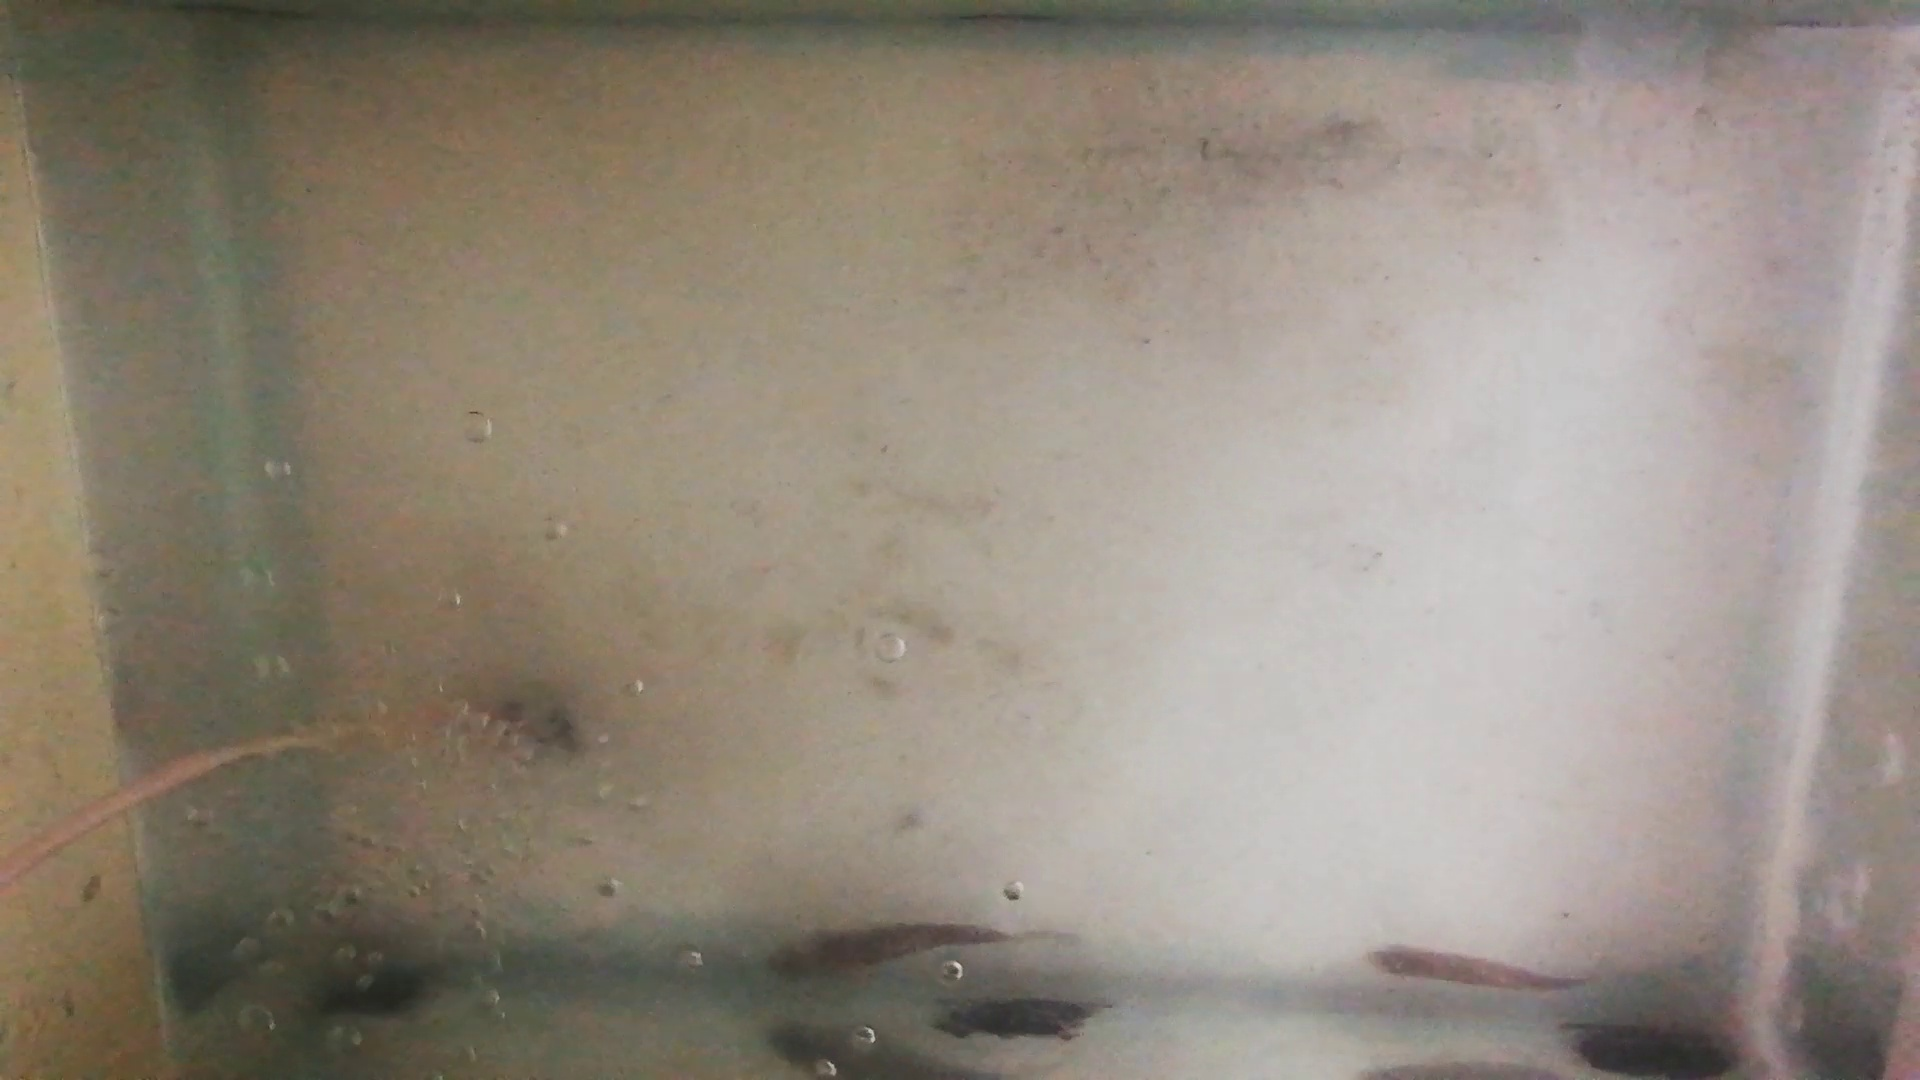fish: (767, 920, 1007, 985), (1360, 942, 1580, 994)
